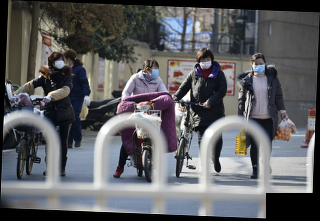with_mask: (199, 55, 213, 70), (252, 60, 266, 74), (148, 65, 160, 78), (54, 57, 66, 69)
